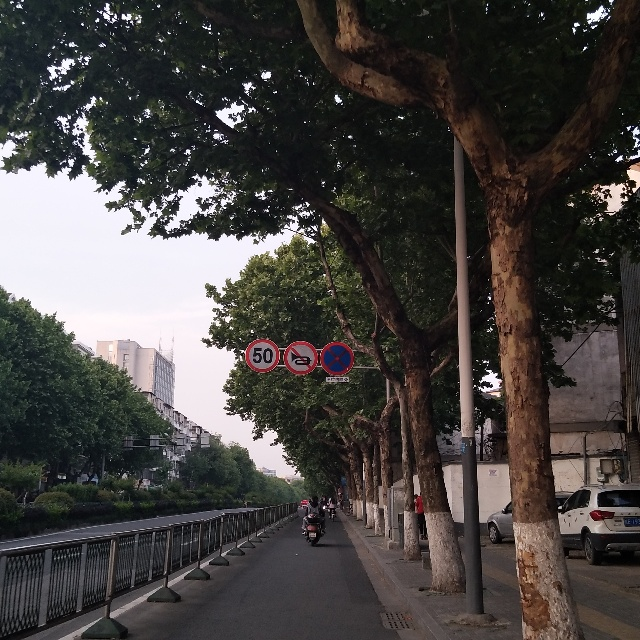nohonk: (283, 340, 317, 375)
stop: (320, 341, 354, 375)
